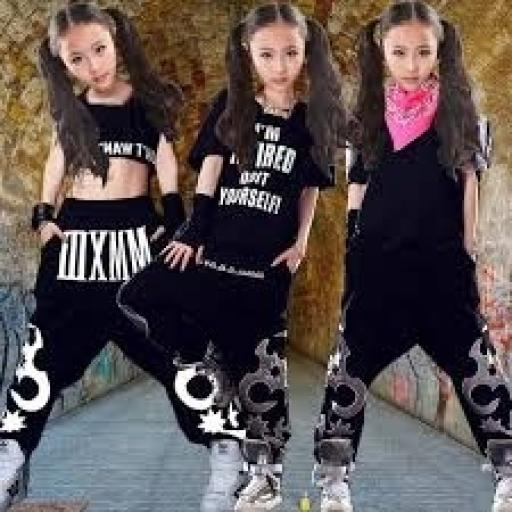dancing: (0, 0, 250, 509), (114, 0, 348, 510), (307, 0, 510, 510)
